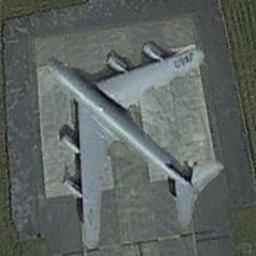Airplane: (45, 38, 224, 249)
